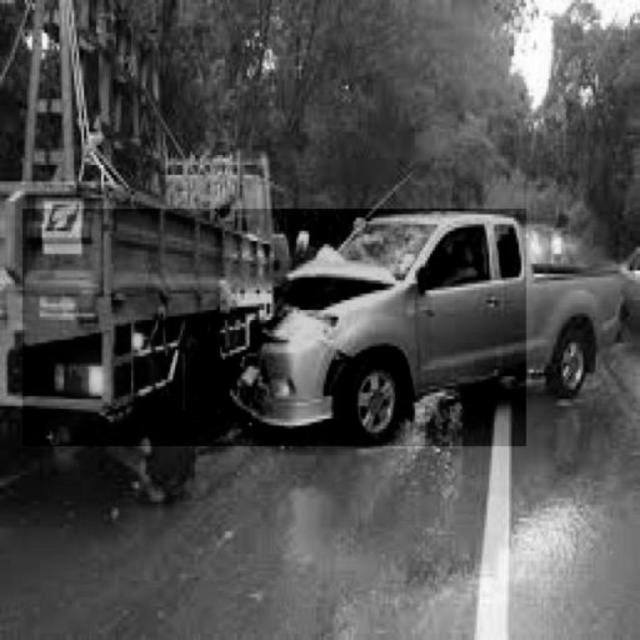accident: (23, 210, 527, 447)
